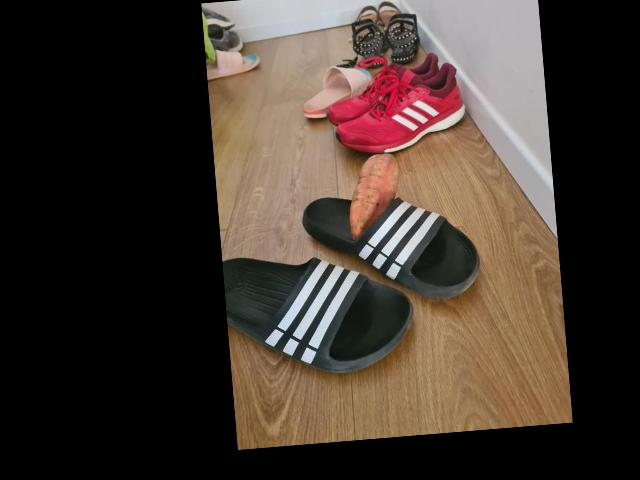sweet_potato: (344, 151, 404, 242)
